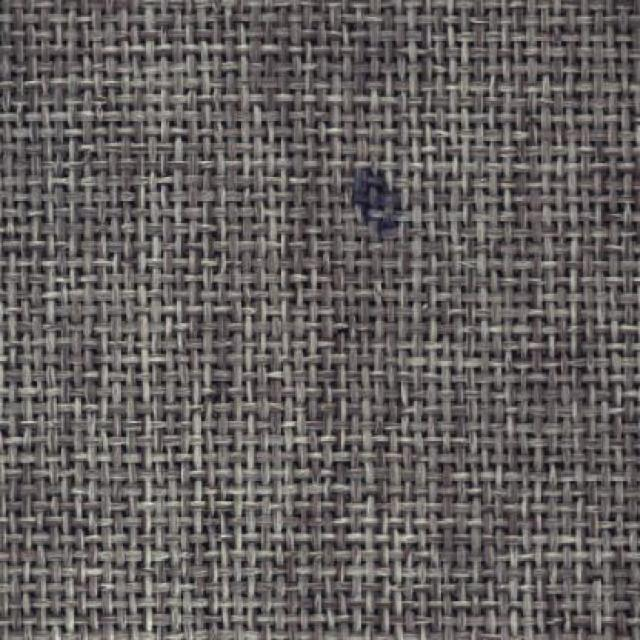Thread_other: (313, 148, 428, 245)
